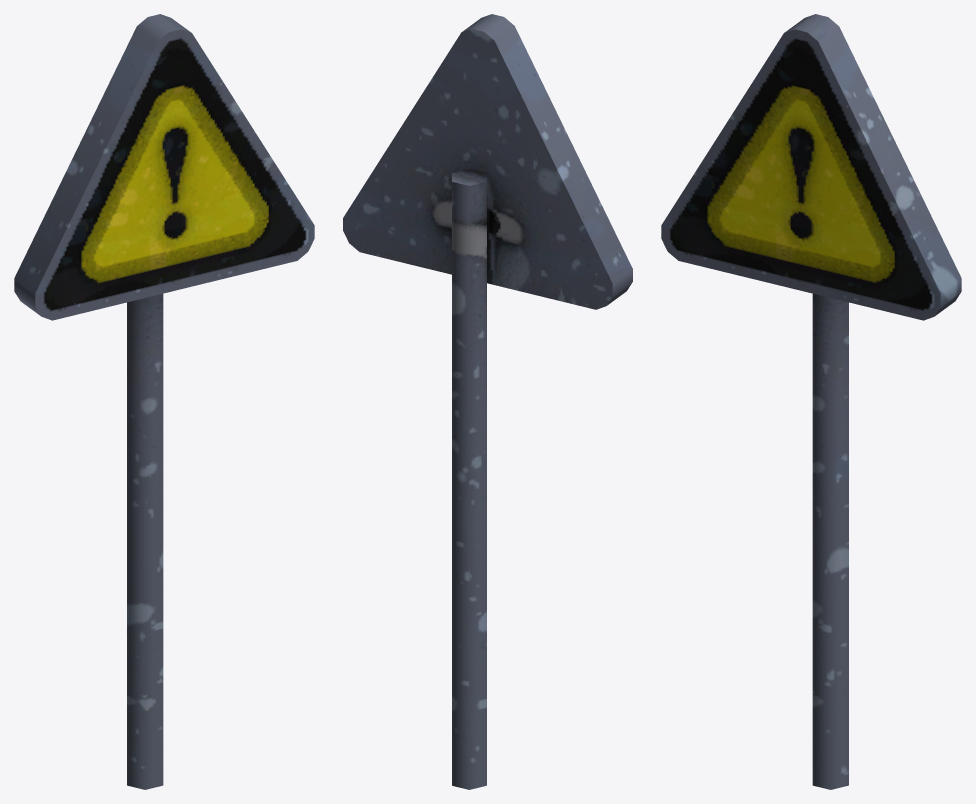
Rendered from SignWarning.gltf.
3 renders of one model, left to right at view 1: azimuth 30°, elevation 25°; view 2: azimuth 150°, elevation 25°; view 3: azimuth 330°, elevation 25°, orthographic. The views are drawn at different scales.
Parts seen in each view (by area): view 1: SignWarning; view 2: SignWarning; view 3: SignWarning.
Part boxes in pixels (<box>): SignWarning: <box>14,14,314,789</box>; SignWarning: <box>343,14,632,789</box>; SignWarning: <box>661,14,961,789</box>.
Size of the model in its own units: 3.92 by 10.34 by 0.9424.
Materials: 1 (1 with a texture image).
